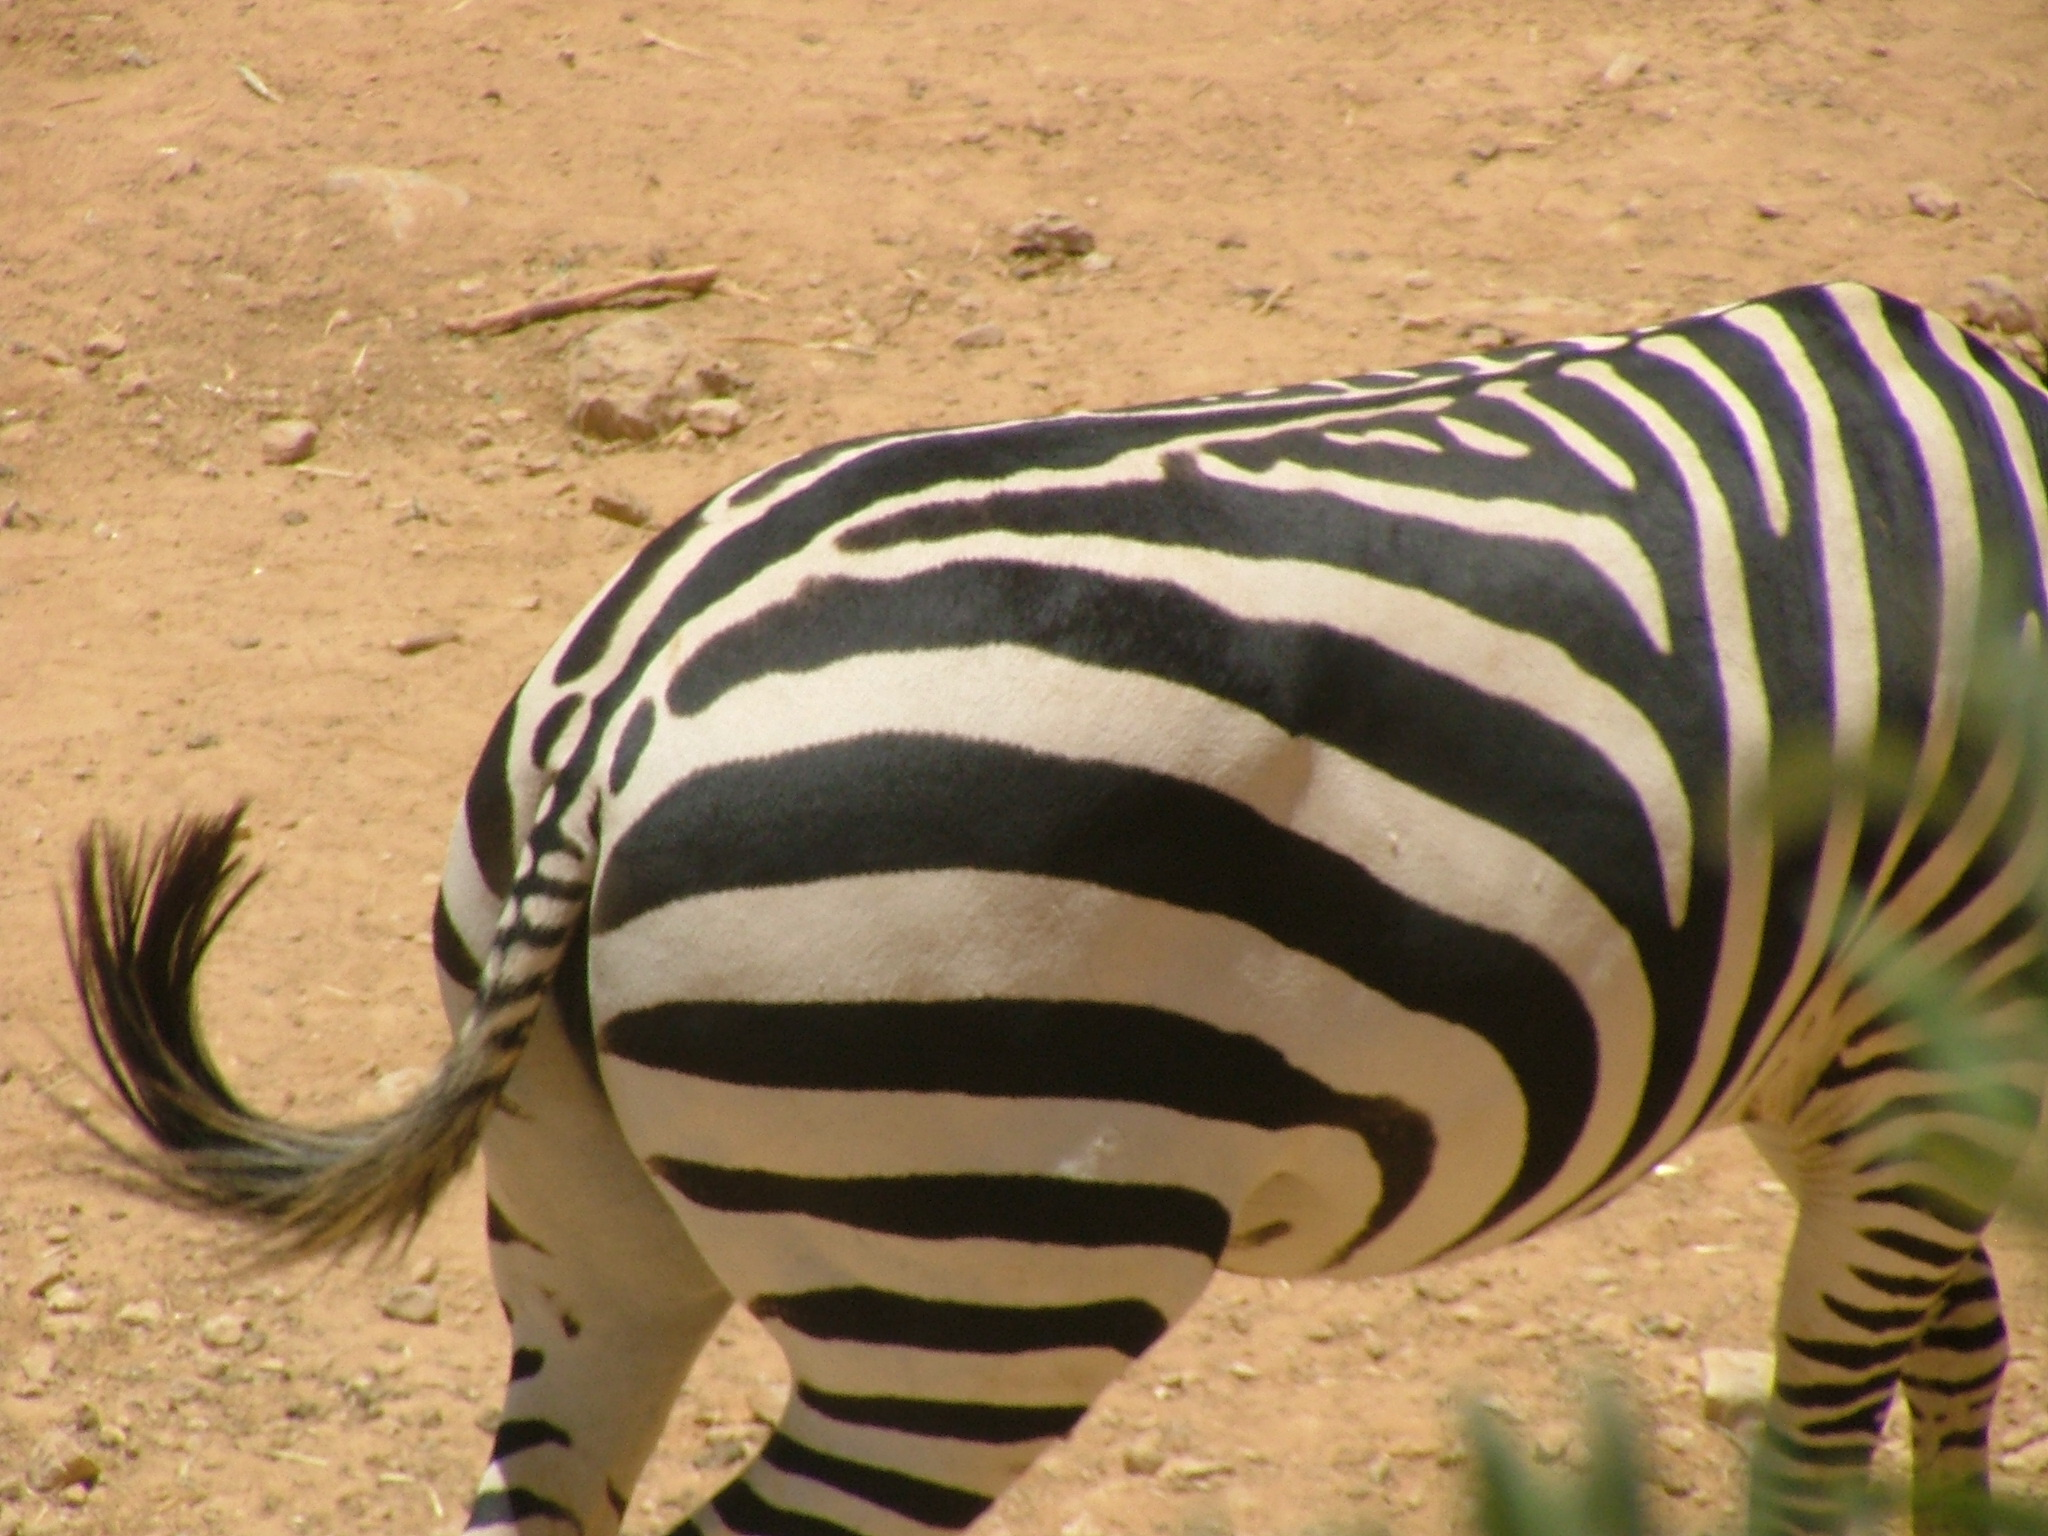zebra: (410, 281, 2048, 1526)
